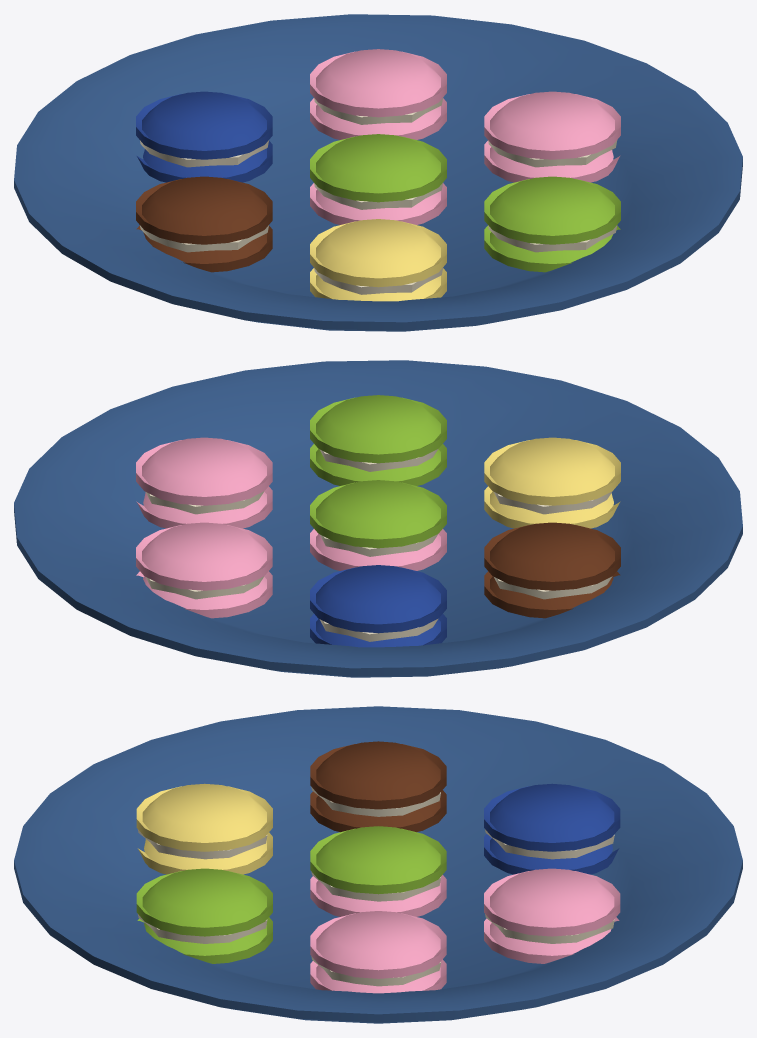
The model's file is dessert_macarons_plate.glb.
3 views of the same model, one above another, from view 1: azimuth 30°, elevation 25°; view 2: azimuth 150°, elevation 25°; view 3: azimuth 270°, elevation 25° (orthographic).
Visible parts, largest first — view 1: dessert_macarons_plate; view 2: dessert_macarons_plate; view 3: dessert_macarons_plate.
Boxes of the visible parts, <box> form: dessert_macarons_plate: <box>14,14,742,331</box>; dessert_macarons_plate: <box>14,360,742,677</box>; dessert_macarons_plate: <box>14,706,742,1023</box>.
Bounding box in the file's own units: 0.2 × 0.0235 × 0.2.
